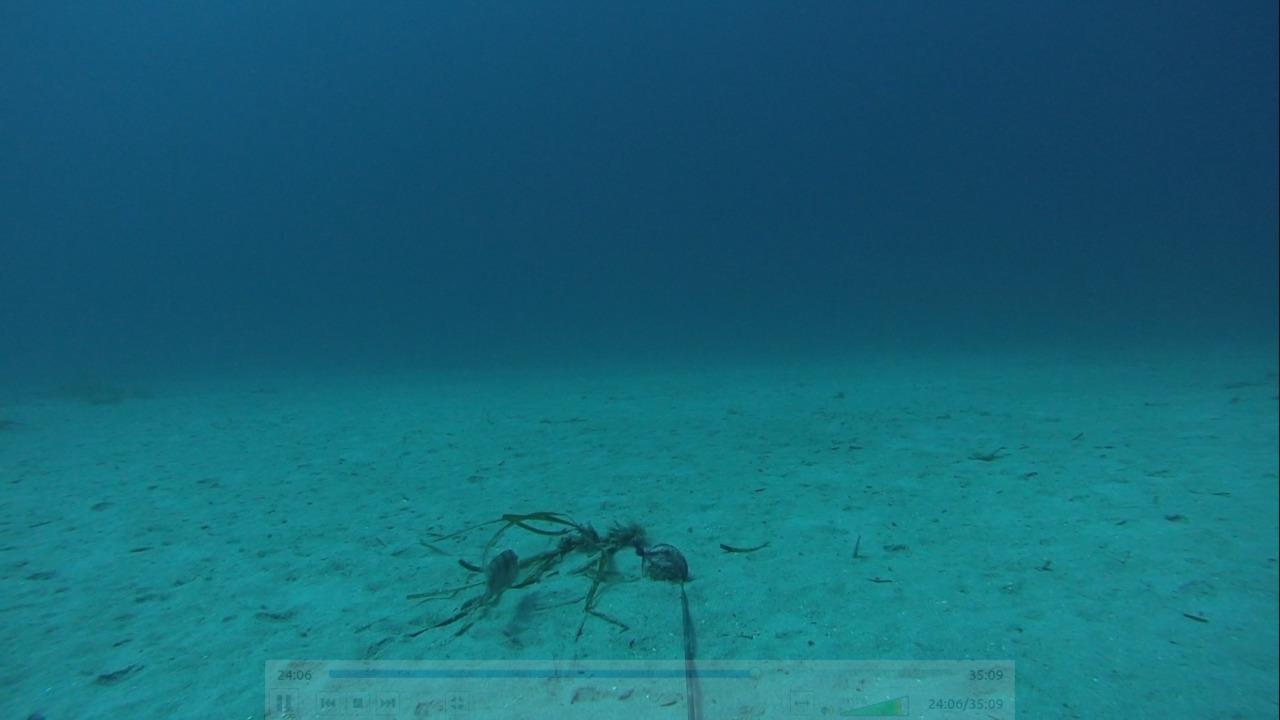raor: (468, 540, 528, 615)
